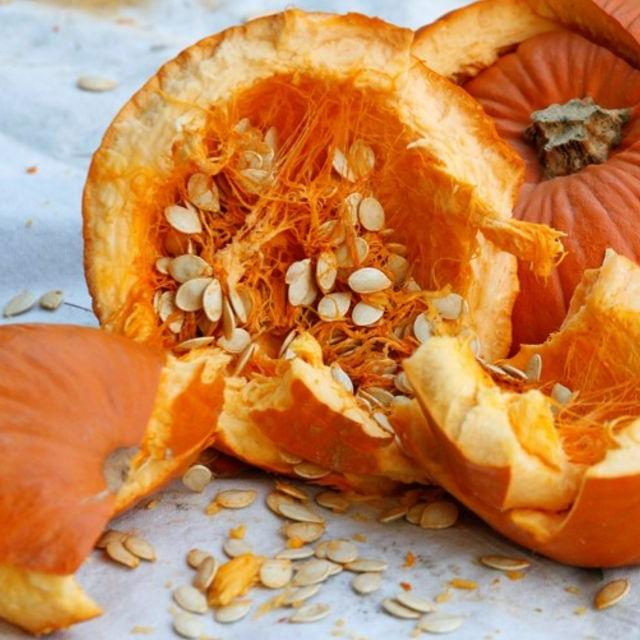food_waste: (20, 0, 640, 612)
